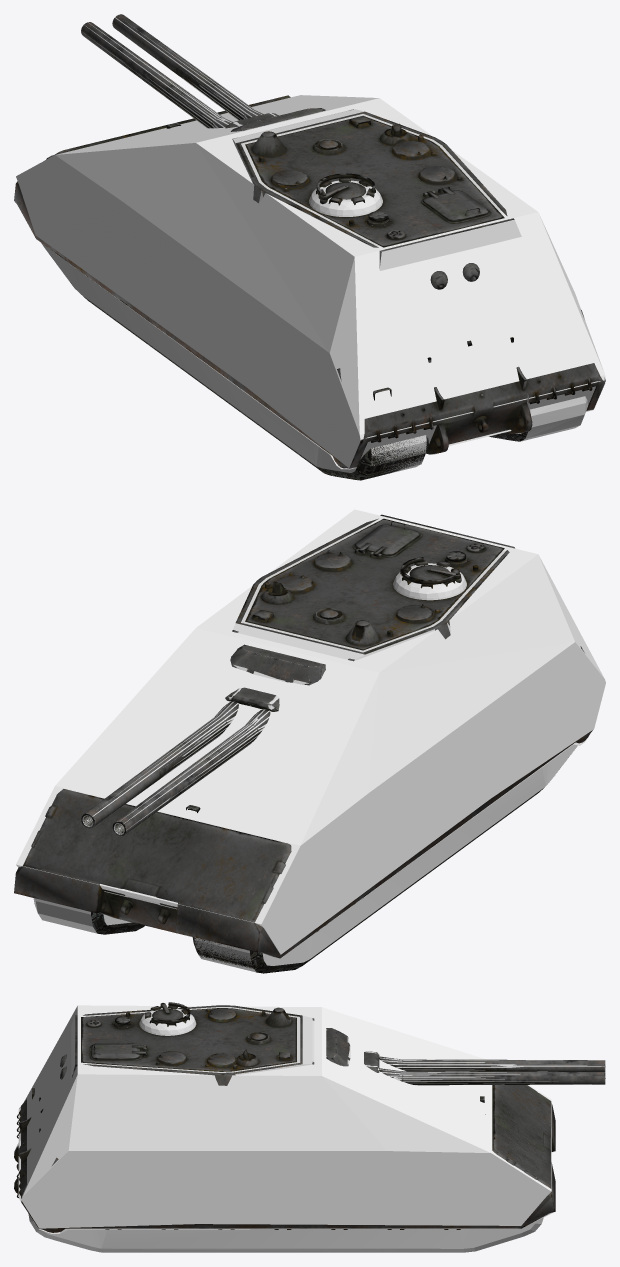
The model's file is germany10_mauses.glb.
The picture shows the model from 3 angles, top to bottom: view 1: azimuth 30°, elevation 25°; view 2: azimuth 150°, elevation 25°; view 3: azimuth 270°, elevation 25°; orthographic projection. The views are drawn at different scales.
Visible parts, largest first — view 1: Mauses_hull_phys, turret01, hull_vis, Mauses_module_tracks_40, gun01, Mauses_armor_turret_100, trackL, mauses_gun_mask_250, gun128s, Mauses_armor_turret_150, Mauses_armor_turret_80; view 2: Mauses_hull_phys, hull_vis, turret01, Mauses_module_tracks_40, gun01, mauses_gun_mask_250, gun128s, trackL, Mauses_armor_turret_80, Mauses_armor_turret_150, Mauses_armor_turret_100; view 3: Mauses_hull_phys, turret01, Mauses_module_tracks_40, hull_vis, gun01, mauses_gun_mask_250, gun128s, Mauses_armor_turret_100, Mauses_armor_turret_80, Mauses_armor_turret_150, mauses_screen_hull_105.
Boxes of the visible parts, x1,y1,x2,y2 form: Mauses_hull_phys: (16, 95, 605, 467); turret01: (233, 109, 514, 289); hull_vis: (14, 95, 604, 468); Mauses_module_tracks_40: (41, 243, 587, 474); gun01: (81, 14, 325, 131); Mauses_armor_turret_100: (233, 109, 521, 270); trackL: (81, 294, 428, 480); mauses_gun_mask_250: (81, 17, 276, 128); gun128s: (81, 19, 243, 128); Mauses_armor_turret_150: (259, 180, 382, 216); Mauses_armor_turret_80: (241, 114, 501, 246); Mauses_hull_phys: (16, 509, 605, 954); hull_vis: (14, 646, 592, 958); turret01: (232, 514, 514, 661); Mauses_module_tracks_40: (33, 744, 577, 972); gun01: (81, 644, 325, 835); mauses_gun_mask_250: (81, 665, 321, 836); gun128s: (81, 724, 261, 836); trackL: (192, 787, 544, 973); Mauses_armor_turret_80: (241, 523, 505, 652); Mauses_armor_turret_150: (393, 563, 466, 633); Mauses_armor_turret_100: (233, 623, 364, 659); Mauses_hull_phys: (21, 1005, 551, 1228); turret01: (60, 1002, 314, 1085); Mauses_module_tracks_40: (28, 1213, 543, 1252); hull_vis: (14, 1085, 555, 1232); gun01: (326, 1028, 605, 1081); mauses_gun_mask_250: (326, 1029, 604, 1085); gun128s: (401, 1068, 605, 1085); Mauses_armor_turret_100: (71, 1015, 314, 1078); Mauses_armor_turret_80: (85, 1007, 300, 1072); Mauses_armor_turret_150: (139, 1007, 196, 1035); mauses_screen_hull_105: (19, 1107, 553, 1233).
Size of the model in its own units: 35.85 by 33.52 by 97.29.
10 materials, 6 textured.
